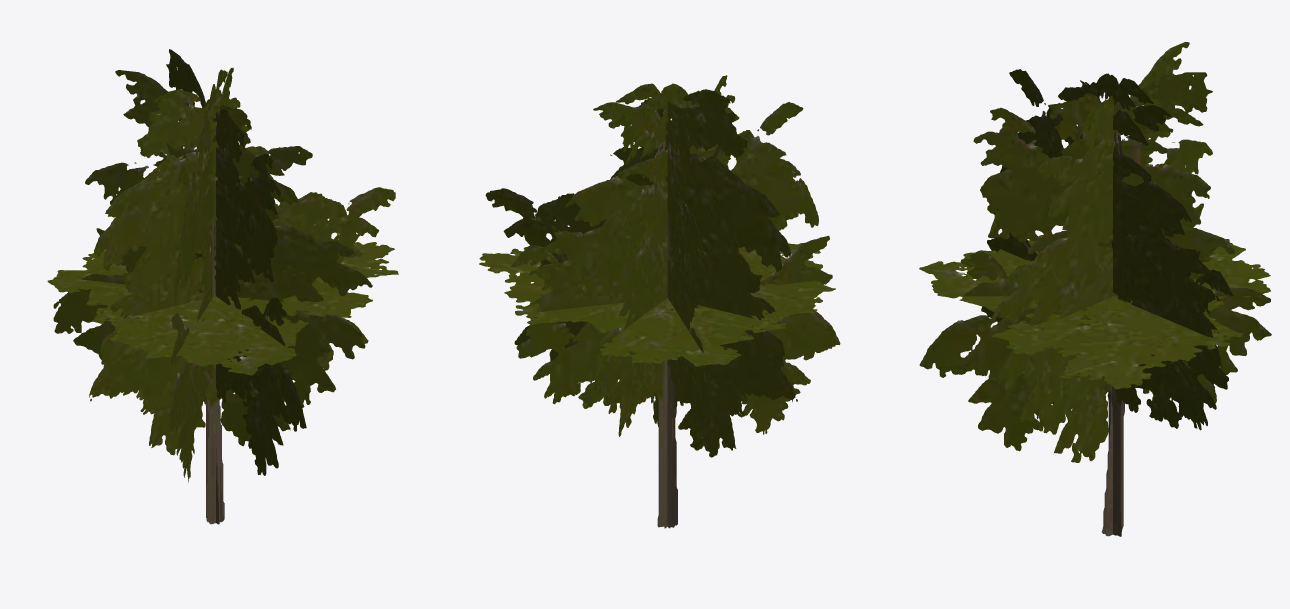
Rendered from maple_m2_lod.glb.
The picture shows the model from 3 angles, left to right: view 1: azimuth 30°, elevation 25°; view 2: azimuth 150°, elevation 25°; view 3: azimuth 270°, elevation 25°; orthographic projection. The views are drawn at different scales.
Visible parts, largest first — view 1: Acer_medium_2_Billboard_LOD3_Acer_medium_2_Billboard_Mat_0; view 2: Acer_medium_2_Billboard_LOD3_Acer_medium_2_Billboard_Mat_0; view 3: Acer_medium_2_Billboard_LOD3_Acer_medium_2_Billboard_Mat_0.
Part boxes in pixels (left/top/right/bottom): Acer_medium_2_Billboard_LOD3_Acer_medium_2_Billboard_Mat_0: left=47, top=49, right=398, bottom=524; Acer_medium_2_Billboard_LOD3_Acer_medium_2_Billboard_Mat_0: left=479, top=75, right=840, bottom=528; Acer_medium_2_Billboard_LOD3_Acer_medium_2_Billboard_Mat_0: left=919, top=42, right=1271, bottom=536.
Size of the model in its own units: 7.44 by 10 by 7.06.
1 material, 1 textured.
